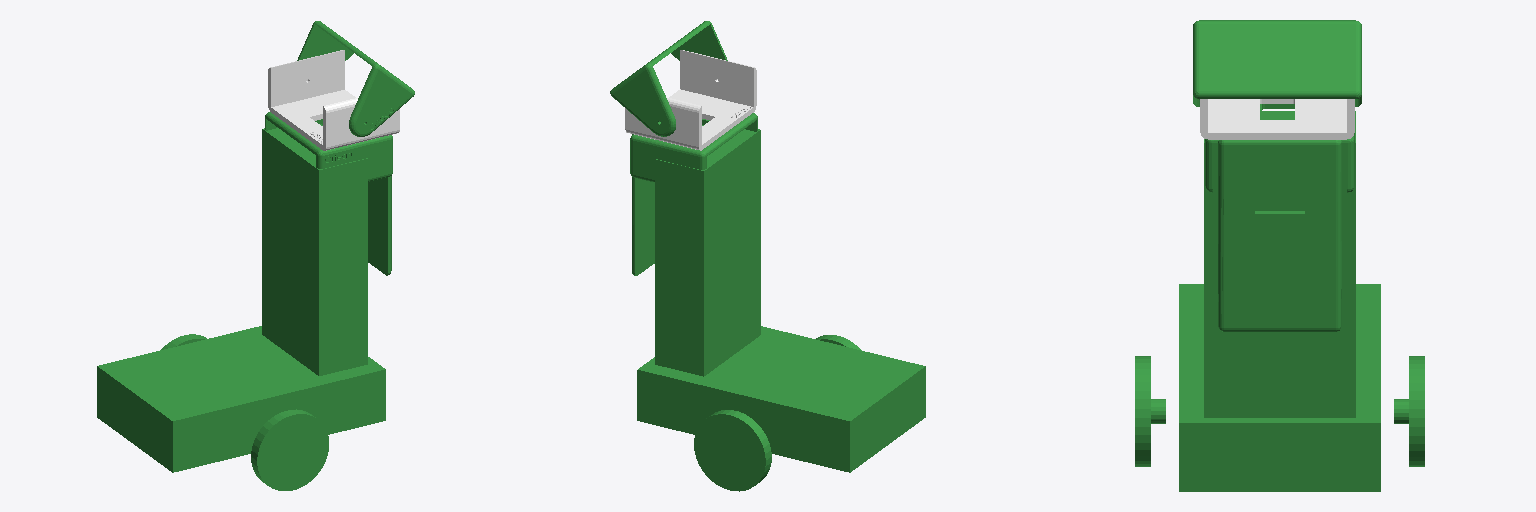
URDF robot description (jetbot.zip):
<?xml version="1.0" encoding="utf-8"?>
<!-- This URDF was automatically created by SolidWorks to URDF Exporter! Originally created by [author] ([email redacted]) 
     Commit Version: 1.6.0-4-g7f85cfe  Build Version: 1.6.7995.38578
     For more information, please see http://wiki.ros.org/sw_urdf_exporter -->
<robot
  name="jetbot.zip">
  <link
    name="base_link">
    <inertial>
      <origin
        xyz="0.00654026944078741 8.3842825998548E-05 -0.0115540240733828"
        rpy="0 0 0" />
      <mass
        value="0.50474037145407" />
      <inertia
        ixx="0.0001"
        ixy="0"
        ixz="0"
        iyy="0.0004"
        iyz="0"
        izz="0.0005" />
    </inertial>
    <visual>
      <origin
        xyz="0 0 0"
        rpy="0 0 0" />
      <geometry>
        <mesh
          filename="package://jetbot/meshes/base_link.STL" />
      </geometry>
      <material
        name="">
        <color
          rgba="0.286274509803922 0.662745098039216 0.329411764705882 1" />
      </material>
    </visual>
    <collision>
      <origin
        xyz="0 0 0"
        rpy="0 0 0" />
      <geometry>
        <mesh
          filename="package://jetbot/meshes/base_link.STL" />
      </geometry>
    </collision>
  </link>
  
  <gazebo reference="base_link">
    <mu1>200</mu1>
    <mu2>200</mu2>
    <kp>1000000</kp>
    <kd>1</kd>
  </gazebo>

  <link
    name="rueda_izquierda_link">
    <inertial>
      <origin
        xyz="3.46944695195361E-17 5.55111512312578E-17 -0.111487858827401"
        rpy="0 0 0" />
      <mass
        value="0.11" />
      <inertia
        ixx="0.00002"
        ixy="0"
        ixz="0"
        iyy="0.000002"
        iyz="0"
        izz="0.0001" />
    </inertial>
    <visual>
      <origin
        xyz="0 0 0"
        rpy="0 0 0" />
      <geometry>
        <mesh
          filename="package://jetbot/meshes/rueda_izquierda_link.STL" />
      </geometry>
      <material
        name="">
        <color
          rgba="0.286274509803922 0.662745098039216 0.329411764705882 1" />
      </material>
    </visual>
    <collision>
      <origin
        xyz="0 0 0"
        rpy="0 0 0" />
      <geometry>
        <mesh
          filename="package://jetbot/meshes/rueda_izquierda_link.STL" />
      </geometry>
    </collision>
  </link>
  <joint
    name="rueda_izquierda_joint"
    type="continuous">
    <origin
      xyz="-0.00159534842276889 0.0575771474057684 -0.0259999999999999"
      rpy="-1.5707963267949 0.00323559477416837 0" />
    <parent
      link="base_link" />
    <child
      link="rueda_izquierda_link" />
    <axis
      xyz="0 0 1" />
    <limit
      effort="100"
      velocity="100" />
    <dynamics
      damping="0.1"
      friction="0.1" />
  </joint>

  <gazebo reference="rueda_izquierda_link">
    <mu1>200</mu1>
    <mu2>200</mu2>
    <kp>1000000</kp>
    <kd>1</kd>
  </gazebo>

  <link
    name="rueda_derecha_link">
    <inertial>
      <origin
        xyz="-3.46944695195361E-17 5.55111512312578E-17 -0.111487858827401"
        rpy="0 0 0" />
      <mass
        value="0.11" />
      <inertia
        ixx="0.00002"
        ixy="0"
        ixz="0"
        iyy="0.00002"
        iyz="0"
        izz="0.0001" />
    </inertial>
    <visual>
      <origin
        xyz="0 0 0"
        rpy="0 0 0" />
      <geometry>
        <mesh
          filename="package://jetbot/meshes/rueda_derecha_link.STL" />
      </geometry>
      <material
        name="">
        <color
          rgba="0.286274509803922 0.662745098039216 0.329411764705882 1" />
      </material>
    </visual>
    <collision>
      <origin
        xyz="0 0 0"
        rpy="0 0 0" />
      <geometry>
        <mesh
          filename="package://jetbot/meshes/rueda_derecha_link.STL" />
      </geometry>
    </collision>
  </link>

  <gazebo reference="rueda_derecha_link">
    <mu1>200</mu1>
    <mu2>200</mu2>
    <kp>1000000</kp>
    <kd>1</kd>
  </gazebo>

  <joint
    name="rueda_derecha_joint"
    type="continuous">
    <origin
      xyz="-0.00159534842276885 -0.0574179141205974 -0.026"
      rpy="1.5707963267949 0.00323559477416897 0" />
    <parent
      link="base_link" />
    <child
      link="rueda_derecha_link" />
    <axis
      xyz="0 0 1" />
    <limit
      effort="100"
      velocity="100" />
    <dynamics
      damping="0.1"
      friction="0.1" />
  </joint>

  <link
    name="subir_link">
    <inertial>
      <origin
        xyz="-0.0112360433284504 1.86777337999322E-05 0.0218014538142358"
        rpy="0 0 0" />
      <mass
        value="0.1273663857179312" />
      <inertia
        ixx="2.84948866223219E-03"
        ixy="1.10924267812716E-03"
        ixz="6.06486494340449E-03"
        iyy="2.44457860376768E-03"
        iyz="-9.62444108911587E-05"
        izz="1.68835801720332E-03" />
    </inertial>
    <visual>
      <origin
        xyz="0 0 0"
        rpy="0 0 0" />
      <geometry>
        <mesh
          filename="package://jetbot/meshes/subir_link.STL" />
      </geometry>
      <material
        name="">
        <color
          rgba="0.286274509803922 0.662745098039216 0.329411764705882 1" />
      </material>
    </visual>
    <collision>
      <origin
        xyz="0 0 0"
        rpy="0 0 0" />
      <geometry>
        <mesh
          filename="package://jetbot/meshes/subir_link.STL" />
      </geometry>
    </collision>
  </link>

  <gazebo reference="subir_link">
    <mu1>0.1</mu1>
    <mu2>0.1</mu2>
    <kp>1000000</kp>
    <kd>1</kd>
  </gazebo>

  <joint
    name="subir_joint"
    type="prismatic">
    <origin
      xyz="0.075406 7.7147E-05 0.083651"
      rpy="0 0 0" />
    <parent
      link="base_link" />
    <child
      link="subir_link" />
    <axis
      xyz="0 0 1" />
    <limit
      lower="-0.045"
      upper="0"
      effort="100"
      velocity="100" />
    <dynamics
      damping="0.1"
      friction="0.1" />
  </joint>
  
  <link
    name="cuello_link">
    <inertial>
      <origin
        xyz="0.000256043952758245 0.000242602809698511 0.004320766121115"
        rpy="0 0 0" />
      <mass
        value="0.1152446218733567" />
      <inertia
        ixx="9.531648938002E-03"
        ixy="0"
        ixz="0"
        iyy="3.61671912523105E-03"
        iyz="0"
        izz="1.13343121190557E-02" />
    </inertial>
    <visual>
      <origin
        xyz="0 0 0"
        rpy="0 0 0" />
      <geometry>
        <mesh
          filename="package://jetbot/meshes/cuello_link.STL" />
      </geometry>
      <material
        name="">
        <color
          rgba="1 1 1 1" />
      </material>
    </visual>
    <collision>
      <origin
        xyz="0 0 0"
        rpy="0 0 0" />
      <geometry>
        <mesh
          filename="package://jetbot/meshes/cuello_link.STL" />
      </geometry>
    </collision>
  </link>
  <joint
    name="cuello_joint"
    type="revolute">
    <origin
      xyz="-0.0192210339441284 -0.000736206693809111 0.0493487604025714"
      rpy="0 0 3.14159265358979" />
    <parent
      link="subir_link" />
    <child
      link="cuello_link" />
    <axis
      xyz="0 0 1" />
    <limit
      lower="-1.5708"
      upper="1.5708" 
      effort="100"
      velocity="100" />
    <dynamics
      damping="0.1"
      friction="0.1" />
  </joint>

  <link
    name="cabeza_link">
    <inertial>
      <origin
        xyz="-0.0058376231114745 -0.0203720592897022 -0.0320469413089303"
        rpy="0 0 0" />
      <mass
        value="0.127124344939099" />
      <inertia
        ixx="9.29041403714559E-03"
        ixy="0"
        ixz="0"
        iyy="9.02758198745204E-03"
        iyz="0"
        izz="2.1595119252841E-03" />
    </inertial>
    <visual>
      <origin
        xyz="0 0 0"
        rpy="0 0 0" />
      <geometry>
        <mesh
          filename="package://jetbot/meshes/cabeza_link.STL" />
      </geometry>
      <material
        name="">
        <color
          rgba="0.286274509803922 0.662745098039216 0.329411764705882 1" />
      </material>
    </visual>
    <collision>
      <origin
        xyz="0 0 0"
        rpy="0 0 0" />
      <geometry>
        <mesh
          filename="package://jetbot/meshes/cabeza_link.STL" />
      </geometry>
    </collision>
  </link>

  <gazebo reference="cabeza_link">
    <mu1>0.1</mu1>
    <mu2>0.1</mu2>
    <kp>1000000</kp>
    <kd>1</kd>
    <material>Gazebo/Yellow</material>
  </gazebo>

  <joint
    name="cabeza_joint"
    type="revolute">
    <origin
      xyz="0.00027896605587166 0.0322637933061906 0.0102106923628102"
      rpy="-1.5707963267949 -0.471467109281761 0" />
    <parent
      link="cuello_link" />
    <child
      link="cabeza_link" />
    <axis
      xyz="0 0 1" />
    <limit
      lower="-0.7"
      upper="0.35" 
      effort="100"
      velocity="100" />
    <dynamics
      damping="0.1"
      friction="0.1" />
  </joint>

    <joint name="camera_optical_joint" type="fixed">
        <parent link="cabeza_link"/>
        <child link="camera_link_optical"/>
        <origin xyz="0.00027896605587166 -0.0322637933061906 0.0102106923628102" 
        rpy="0 0 0"/>
    </joint>

    <link name="camera_link_optical"></link>

    <gazebo reference="cabeza_link">
        <material>Gazebo/Red</material>

        <sensor name="camera" type="camera">
            <pose> 0 0 0 0 0 0 </pose>
            <visualize>true</visualize>
            <update_rate>10</update_rate>
            <camera>
                <horizontal_fov>1.089</horizontal_fov>
                <image>
                    <format>R8G8B8</format>
                    <width>640</width>
                    <height>480</height>
                </image>
                <clip>
                    <near>0.05</near>
                    <far>8.0</far>
                </clip>
            </camera>
            <plugin name="camera_controller" filename="libgazebo_ros_camera.so">
                <frame_name>camera_link_optical</frame_name>
            </plugin>
        </sensor>
    </gazebo>

  <gazebo>
        <plugin name="diff_drive" filename="libgazebo_ros_diff_drive.so">

            <!-- Wheel Information -->
            <left_joint>rueda_izquierda_joint</left_joint>
            <right_joint>rueda_derecha_joint</right_joint>
            <wheel_separation>0.115154295</wheel_separation>
            <wheel_diameter>0.1</wheel_diameter>


            <!-- Limits -->
            <max_wheel_torque>200</max_wheel_torque>
            <max_wheel_acceleration>10.0</max_wheel_acceleration>

            
            <!-- Output -->
            <odometry_frame>odom</odometry_frame>
            <robot_base_frame>base_link</robot_base_frame>

            <publish_odom>true</publish_odom>
            <publish_odom_tf>true</publish_odom_tf>
            <publish_wheel_tf>true</publish_wheel_tf>

        </plugin>
    </gazebo>

</robot>

--- Facts derived from the render (not from the file) ---
Views: 3 orthographic renders of the robot side by side, from view 1: azimuth 30°, elevation 25°; view 2: azimuth 150°, elevation 25°; view 3: azimuth 270°, elevation 25°.
Model jetbot.zip with 7 links and 6 joints (2 revolute, 2 continuous, 1 prismatic, 1 fixed), rooted at base_link, posed every joint at zero.
Visible links, largest first — view 1: base_link, cuello_link, rueda_izquierda_link, subir_link, cabeza_link; view 2: base_link, cuello_link, rueda_derecha_link, subir_link, cabeza_link; view 3: base_link, subir_link, cabeza_link, cuello_link, rueda_izquierda_link, rueda_derecha_link.
Boxes of the visible links, x1,y1,x2,y2 form: base_link: (97,124,385,472); cuello_link: (268,50,399,150); rueda_izquierda_link: (251,409,328,490); subir_link: (265,112,392,275); cabeza_link: (297,21,414,136); base_link: (637,125,925,472); cuello_link: (625,50,756,150); rueda_derecha_link: (694,410,771,491); subir_link: (630,113,757,275); cabeza_link: (610,21,727,136); base_link: (1179,111,1380,491); subir_link: (1205,104,1354,331); cabeza_link: (1193,20,1361,106); cuello_link: (1200,99,1354,139); rueda_izquierda_link: (1135,356,1165,466); rueda_derecha_link: (1394,356,1424,466).
Bounding box of the posed robot: 0.152 × 0.115 × 0.2229 m (x, y, z).
Meshes: 6 distinct files referenced, 6 mesh visuals loaded (6 binary STL).
